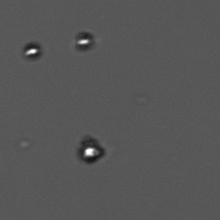Living Cell: (73, 136, 109, 169), (20, 37, 41, 63), (73, 28, 95, 52)
